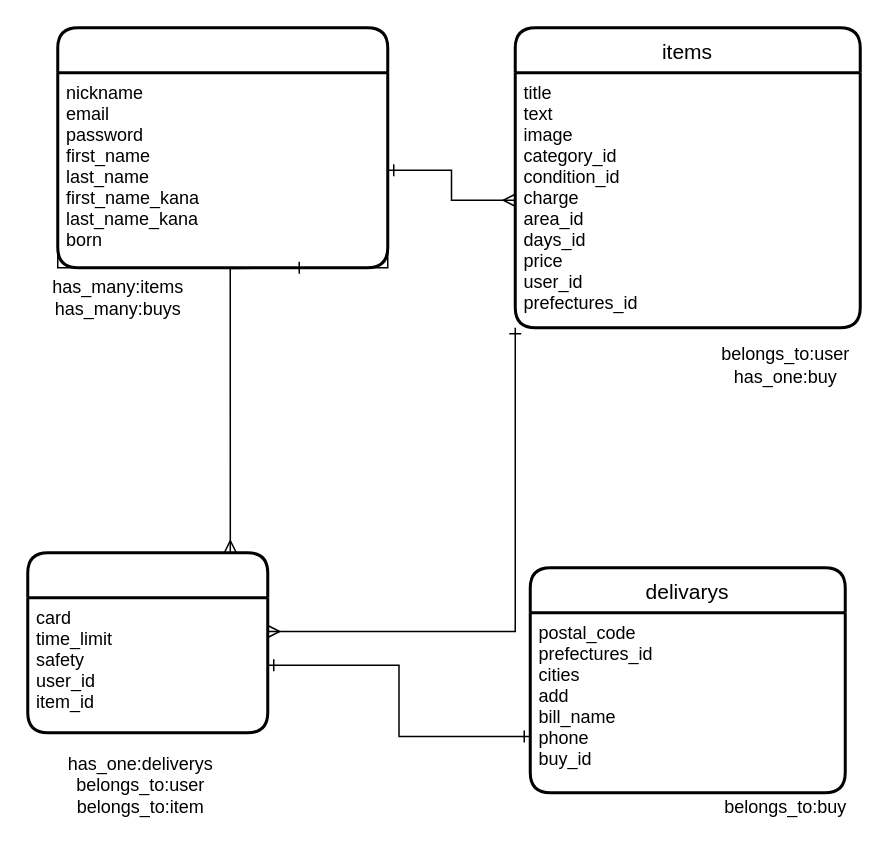
Some shapes in this 887 by 848 pixel diagram are drawn without their labels. The shapes that lost their labels are listed below. From the top down, each one's box as (x1, y1, x2, y2) in pixels, then its label:
(56, 26, 388, 268): users
(26, 550, 268, 734): buys
